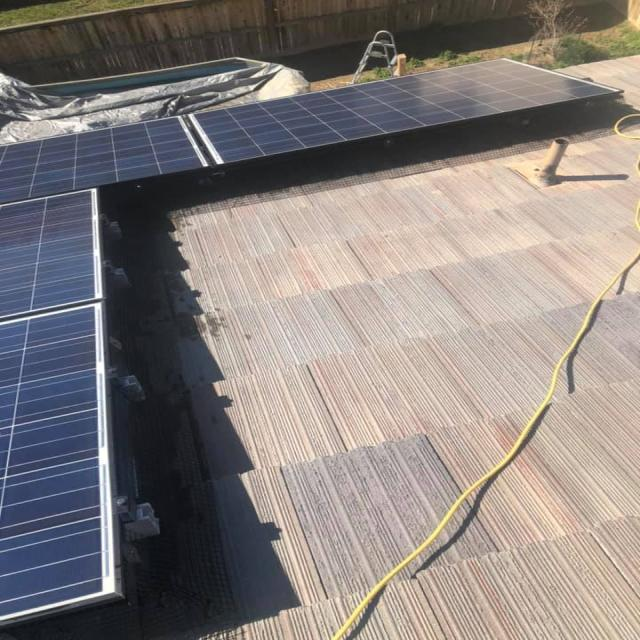clean-solar-panel: (0, 60, 620, 202), (0, 189, 120, 624)
